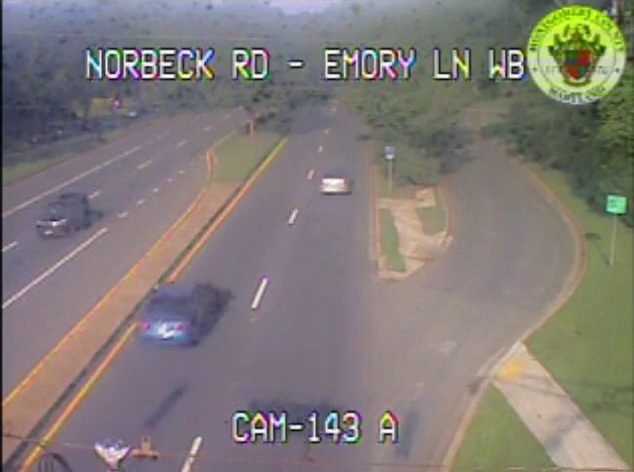car: (139, 283, 214, 344), (319, 172, 350, 192)
